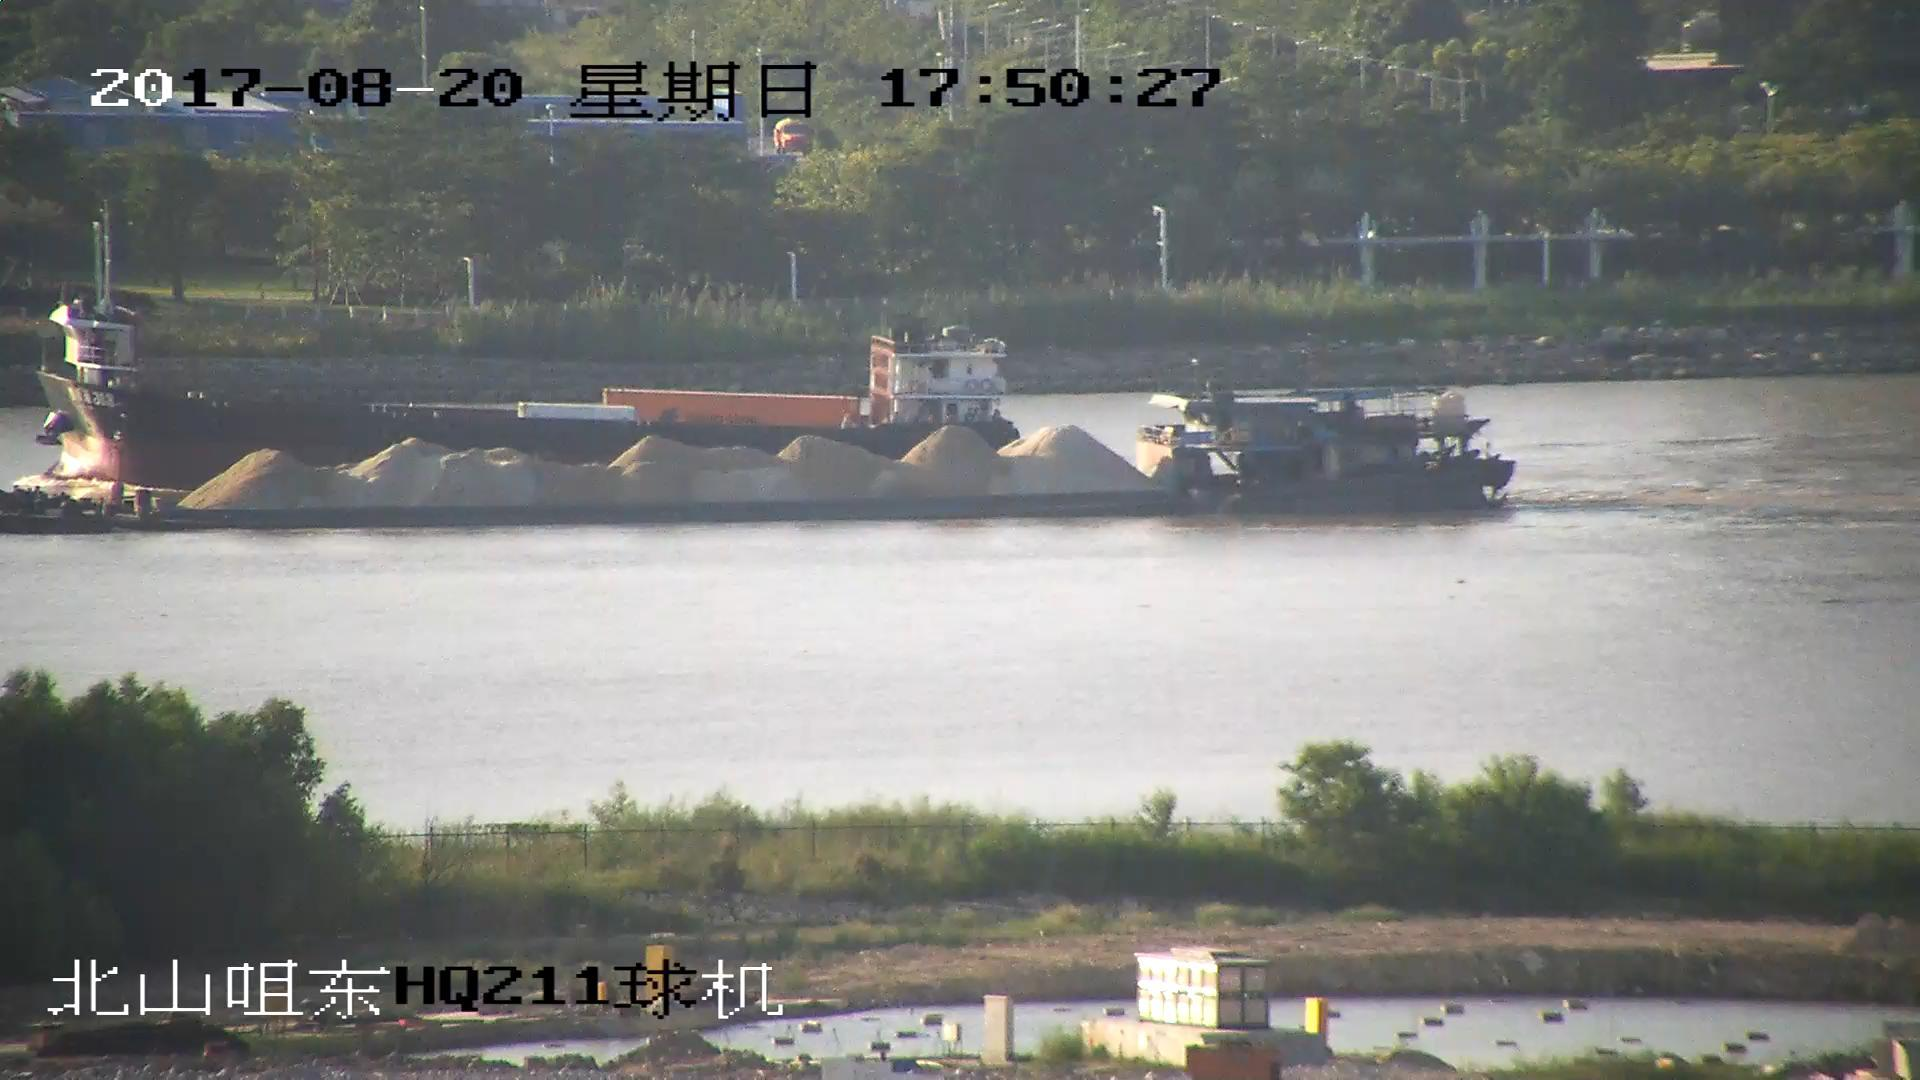Ship: (40, 206, 1025, 485), (3, 382, 1519, 525)
